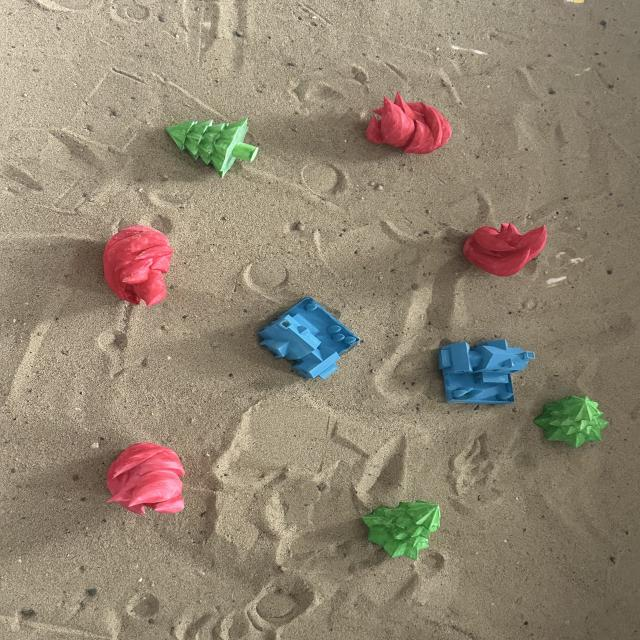fire: (105, 441, 186, 517), (101, 224, 174, 307), (364, 91, 453, 155), (461, 221, 548, 277)
house: (256, 295, 360, 381), (436, 338, 536, 405)
tree: (164, 116, 260, 178), (360, 499, 441, 561), (532, 394, 610, 448)
